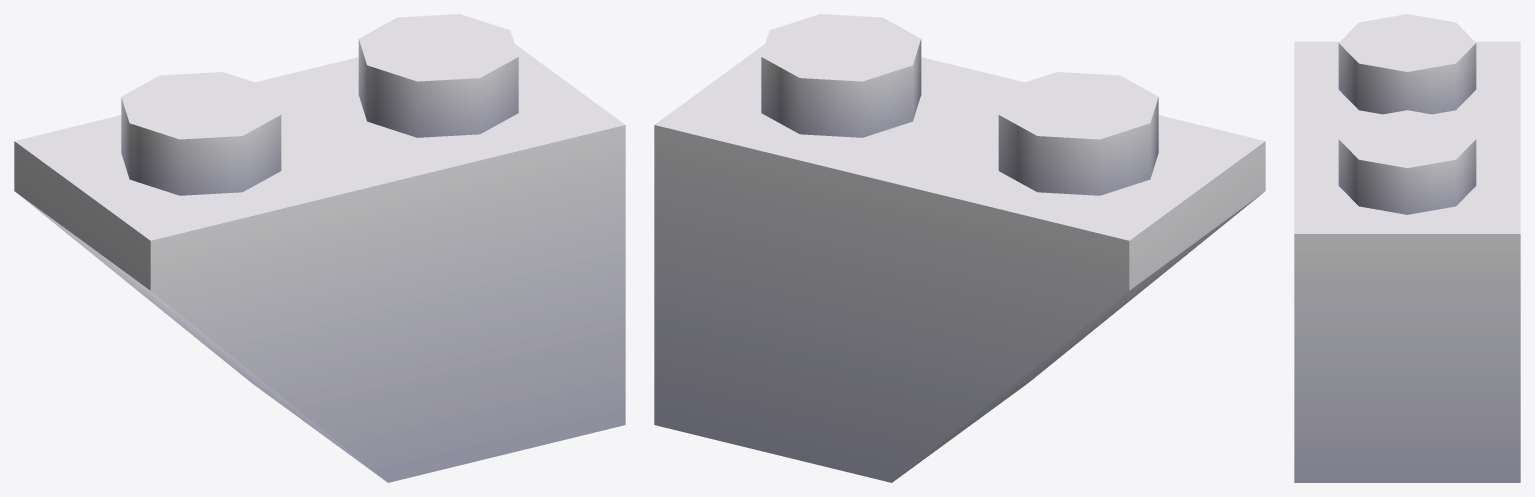
The model's file is kenney-brick-round-lq-brick-slope-inverted-1-x-2.glb.
3 renders of one model, left to right at view 1: azimuth 30°, elevation 25°; view 2: azimuth 150°, elevation 25°; view 3: azimuth 270°, elevation 25°, orthographic. The views are drawn at different scales.
Visible parts, largest first — view 1: round-lq-brick-slope-inverted-1x2; view 2: round-lq-brick-slope-inverted-1x2; view 3: round-lq-brick-slope-inverted-1x2.
Boxes of the visible parts, x1,y1,x2,y2 form: round-lq-brick-slope-inverted-1x2: [14, 14, 625, 482]; round-lq-brick-slope-inverted-1x2: [654, 14, 1265, 482]; round-lq-brick-slope-inverted-1x2: [1294, 14, 1520, 482].
Size of the model in its own units: 0.159 by 0.114 by 0.079.
1 material, 1 textured.
